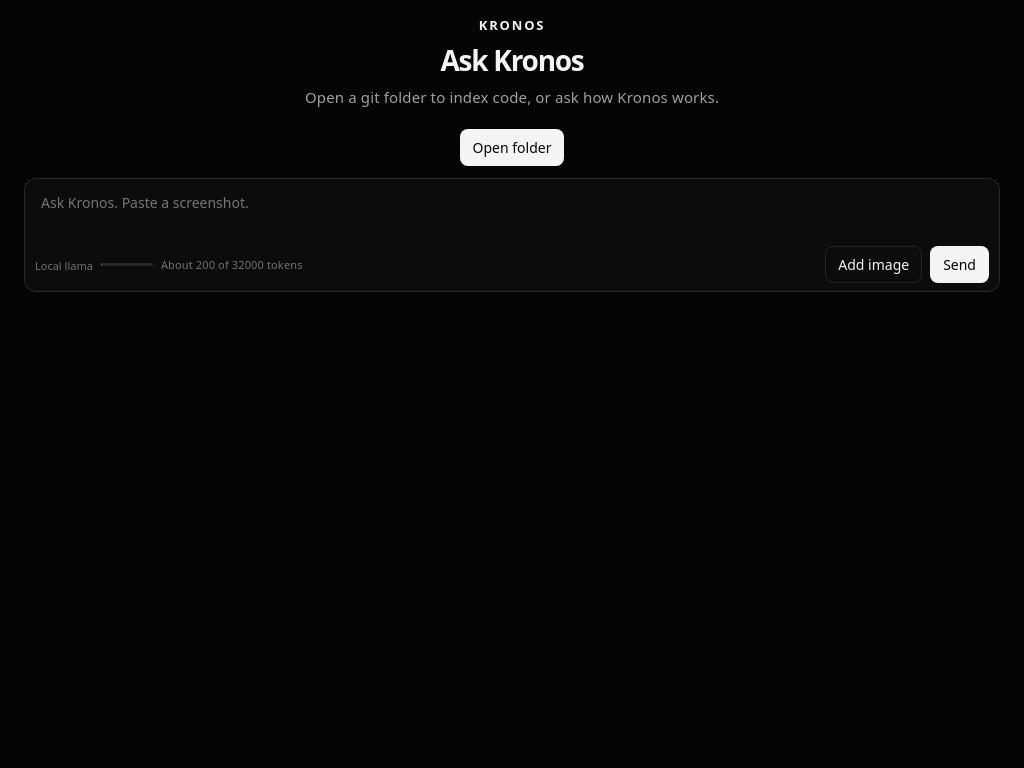
it: ChatPage › opens Connect a model as a dialog from the switcher
The image size is (1024, 768).
Click the button "Local llama".
click(64, 266)  # box [35, 258, 93, 273]
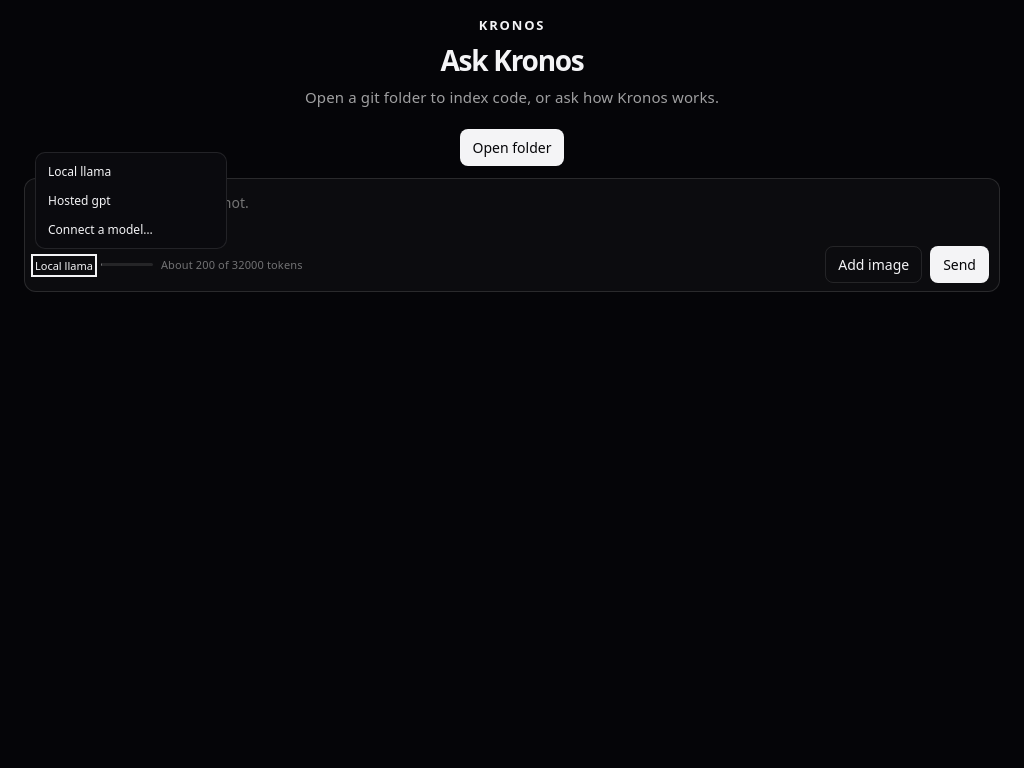
Click the menu item "Connect a model…".
click(131, 230)  # box [40, 215, 222, 244]
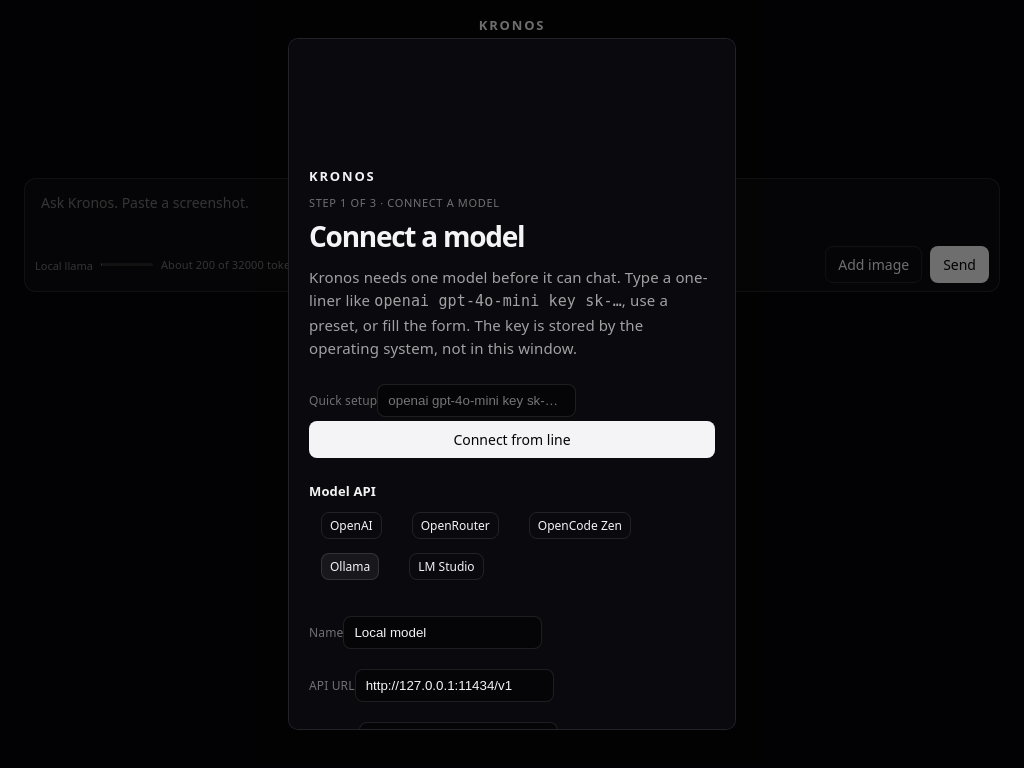
Expected: the text box named "Ask Kronos" is shown, [35, 189, 989, 238]
Result: the dialog "Connect a model" is shown at [288, 38, 736, 730]
Result: the heading "Connect a model" is shown at [309, 217, 524, 255]
